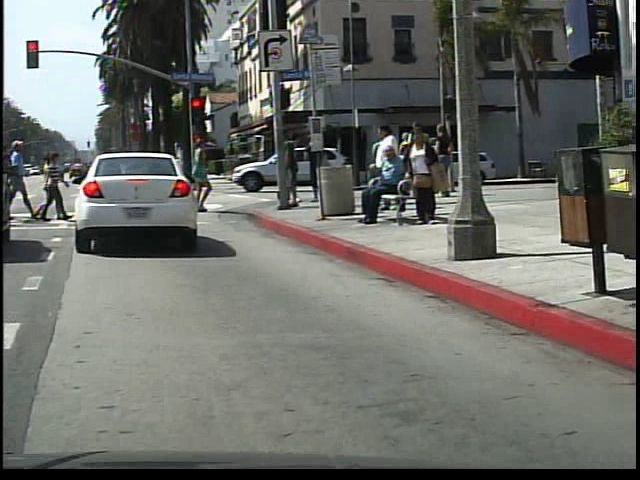person: (359, 146, 414, 226), (408, 126, 445, 224), (191, 134, 217, 195)
